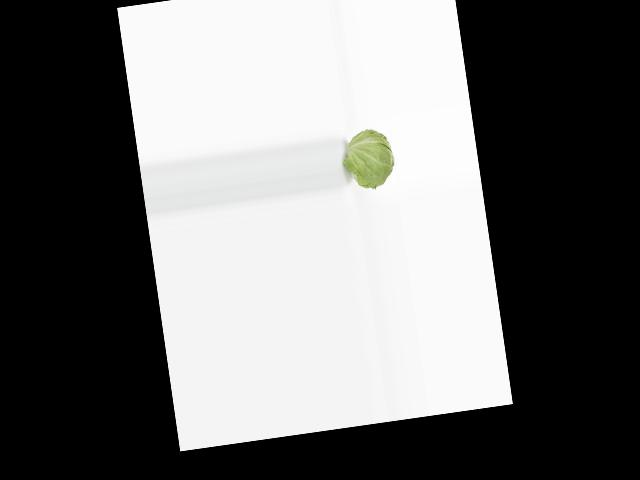lettuce: (345, 122, 398, 193)
